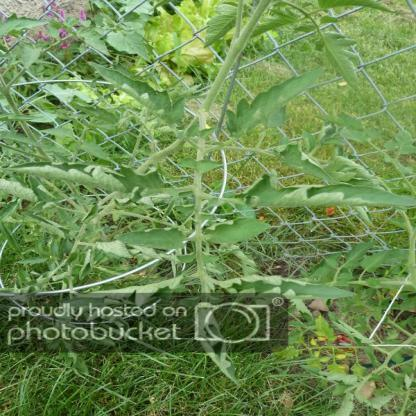Tomato mold leaf: (224, 67, 328, 135), (240, 174, 408, 214), (14, 164, 177, 196), (200, 216, 272, 250), (113, 228, 186, 253)
